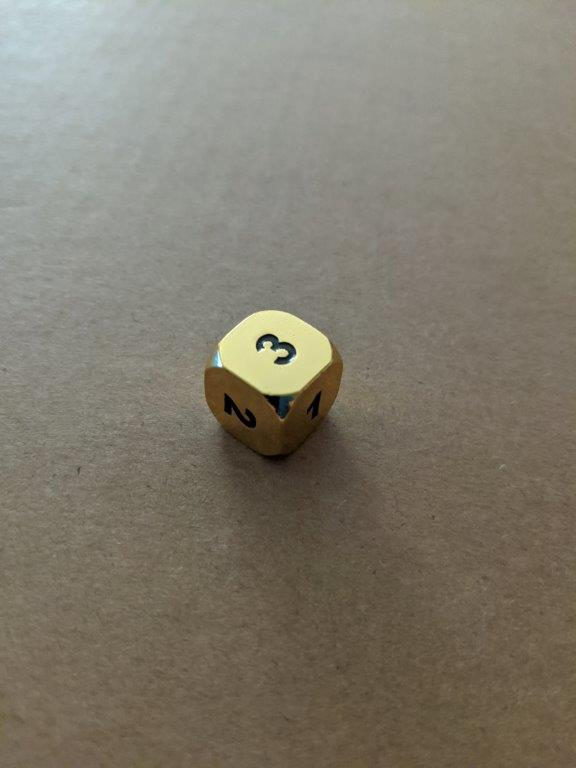d6-3: (202, 307, 345, 461)
